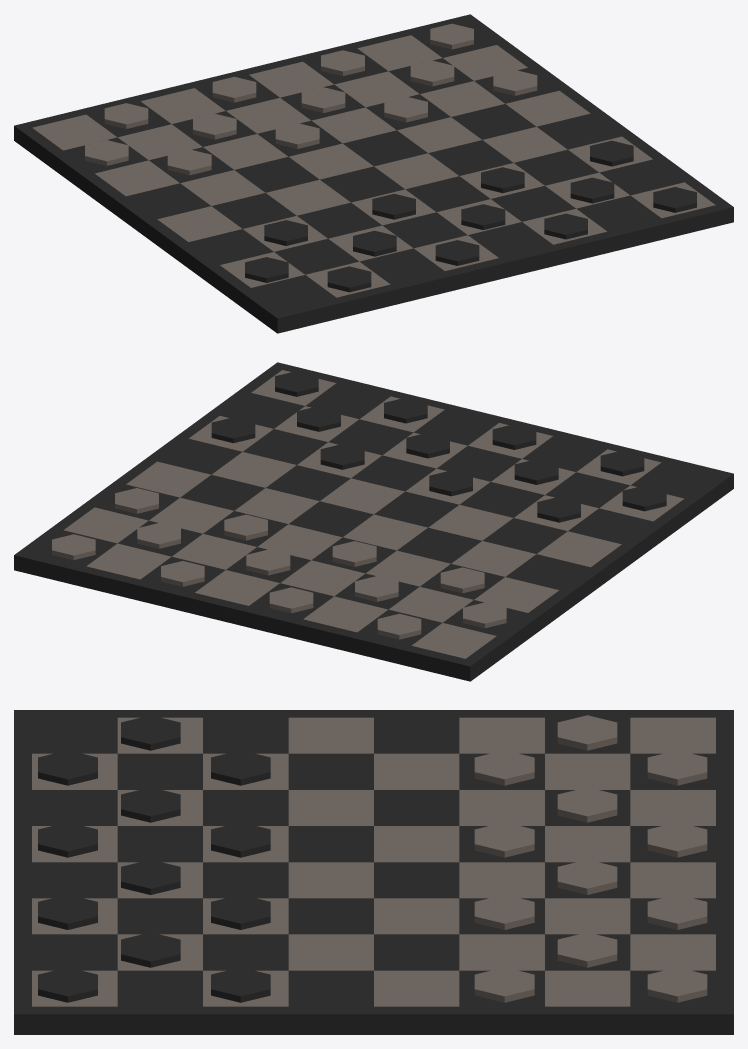
Rendered from Checkers_01.fbx.
3 renders of one model, top to bottom at view 1: azimuth 30°, elevation 25°; view 2: azimuth 150°, elevation 25°; view 3: azimuth 270°, elevation 25°, orthographic. The views are drawn at different scales.
Parts seen in each view (by area): view 1: Checkers_01; view 2: Checkers_01; view 3: Checkers_01.
Part boxes in pixels (x1,y1,x2,y2): Checkers_01: (14,14,733,333); Checkers_01: (14,362,733,681); Checkers_01: (14,710,733,1034).
Bounding box in the file's own units: 43.88 × 1.82 × 43.88.
